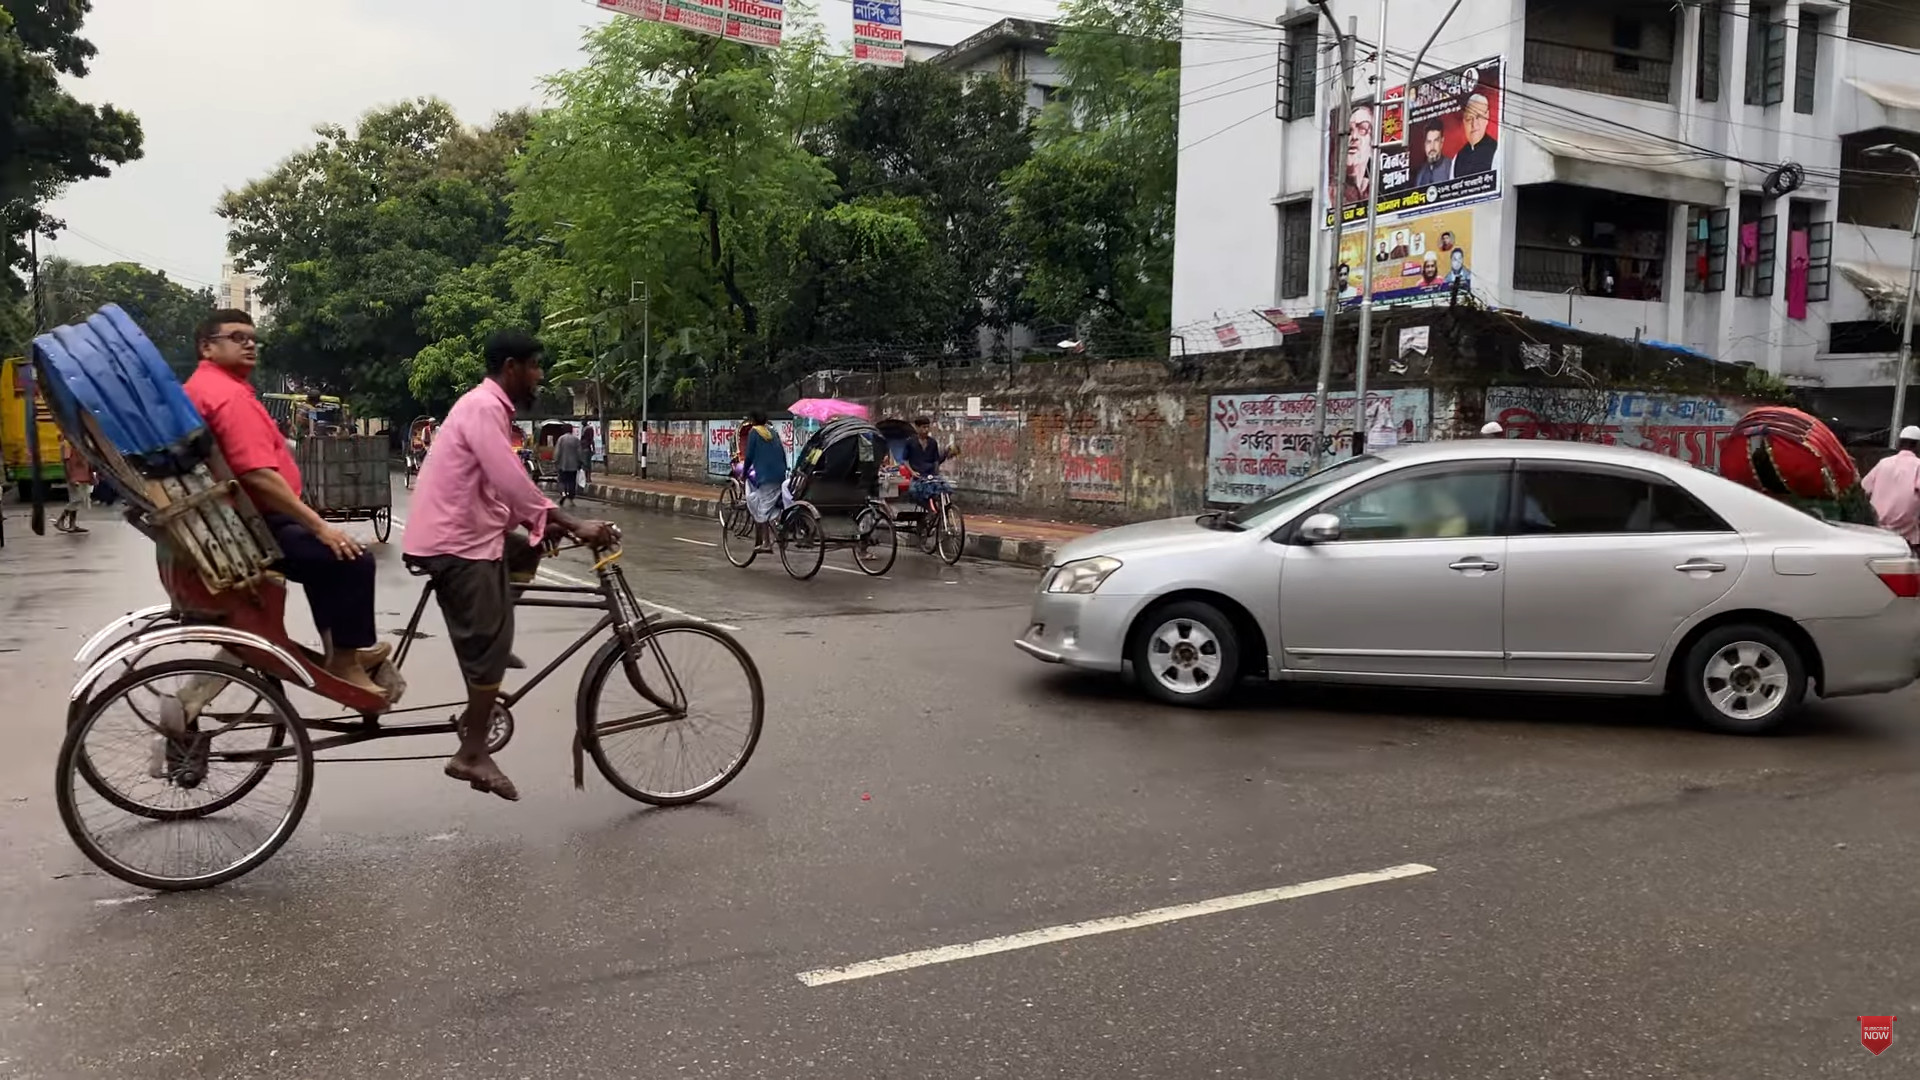Car: (1006, 425, 1917, 771)
Rickshaw: (29, 302, 767, 898), (724, 419, 902, 587)
